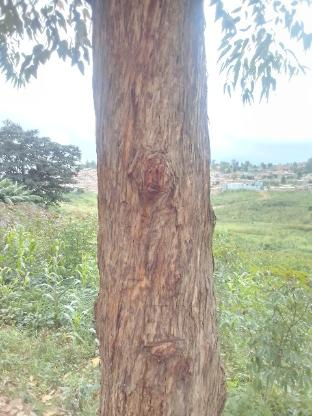tree: (80, 0, 235, 416)
